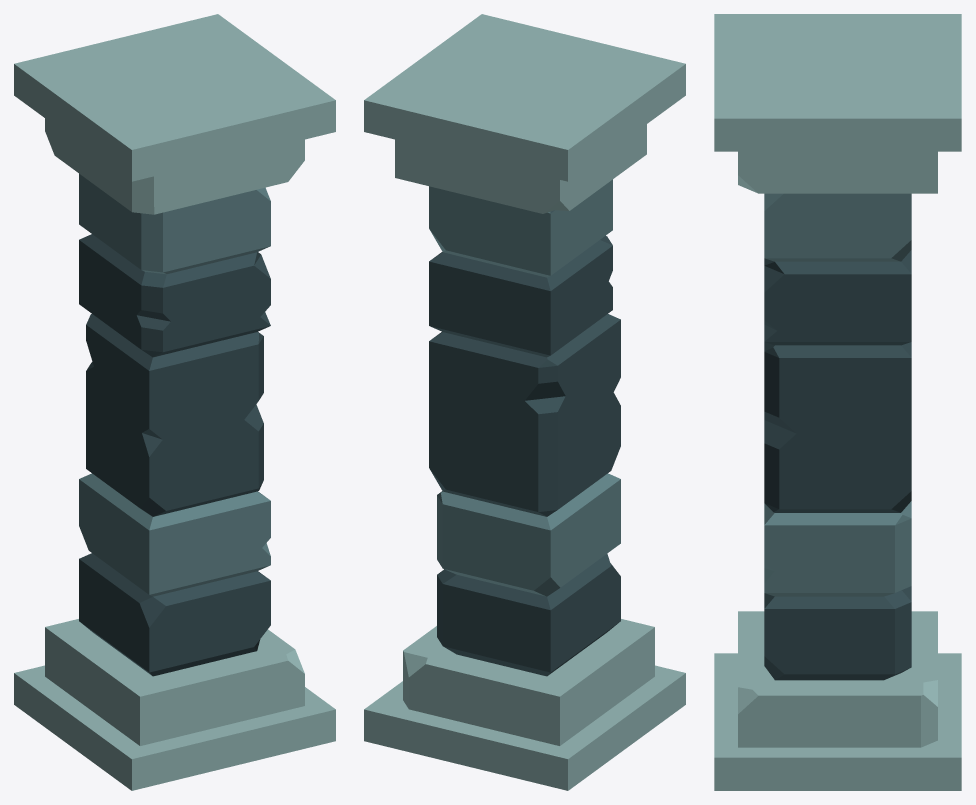
The model's file is Pillar 2.glb.
The picture shows the model from 3 angles, left to right: view 1: azimuth 30°, elevation 25°; view 2: azimuth 150°, elevation 25°; view 3: azimuth 270°, elevation 25°; orthographic projection. The views are drawn at different scales.
Parts seen in each view (by area): view 1: Pillar 2; view 2: Pillar 2; view 3: Pillar 2.
Boxes of the visible parts, <box> form: Pillar 2: <box>14,14,335,790</box>; Pillar 2: <box>364,14,685,790</box>; Pillar 2: <box>714,14,961,790</box>.
Bounding box in the file's own units: 1 × 3 × 1.
1 material, 1 textured.
